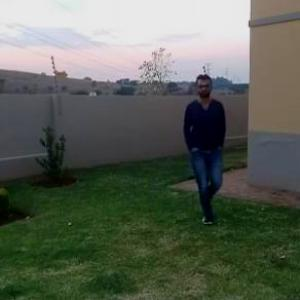follow: (182, 72, 231, 216)
